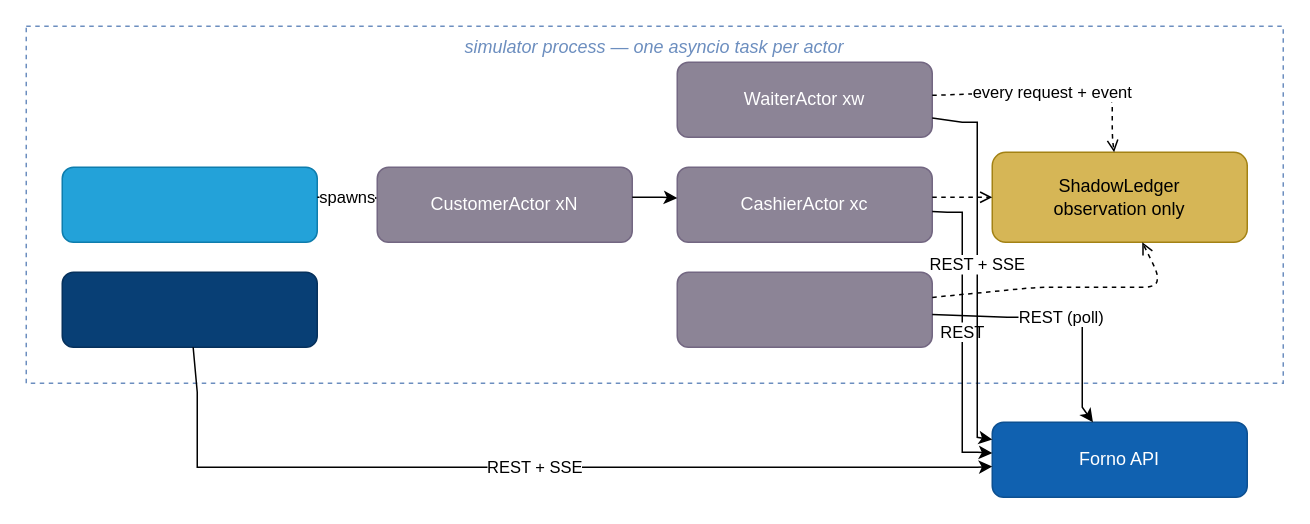
Image size: 1310x524. Some labels were removed from this diagram. The shapes that lost their labels are listed below. From the top down, each one's centre as x and y in pixels, then its label:
At (189,204): "ArrivalGenerator".
At (189,309): "ManagerActor x1".
At (804,309): "ChefActor xk".
